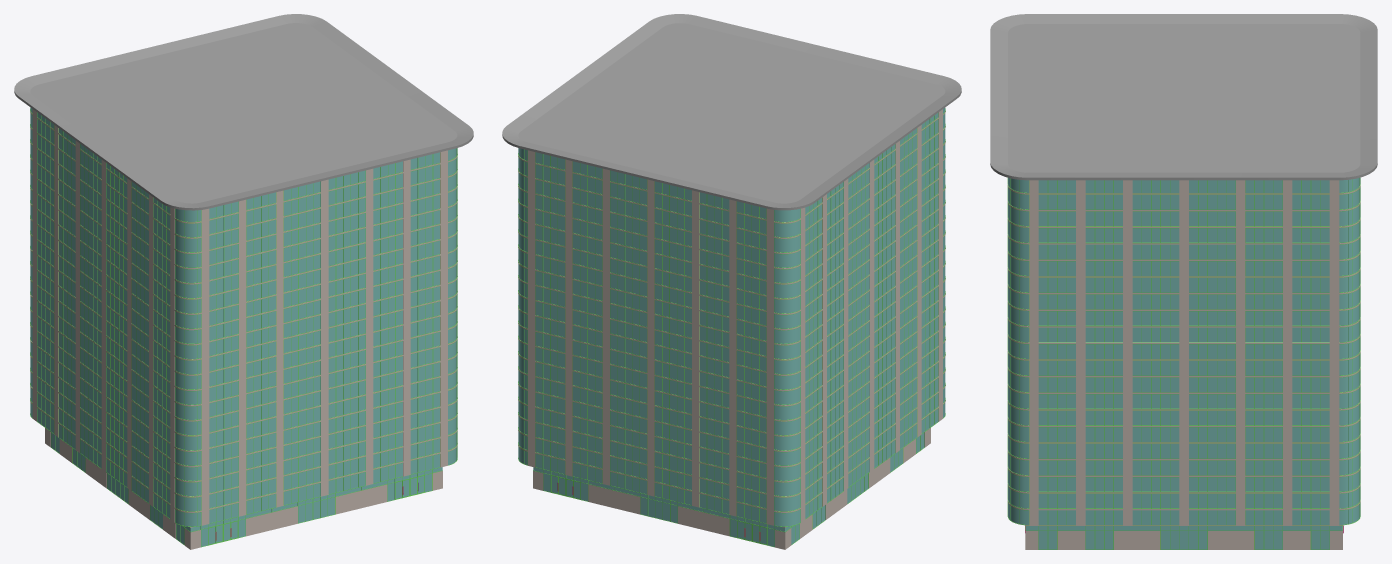
File: Building_7_3.FBX
3 renders of one model, left to right at view 1: azimuth 30°, elevation 25°; view 2: azimuth 150°, elevation 25°; view 3: azimuth 270°, elevation 25°, orthographic. The views are drawn at different scales.
Parts seen in each view (by area): view 1: B-7-F3C_LOD0; view 2: B-7-F3C_LOD0; view 3: B-7-F3C_LOD0.
Part boxes in pixels (<box>): B-7-F3C_LOD0: <box>14,14,473,549</box>; B-7-F3C_LOD0: <box>502,14,961,549</box>; B-7-F3C_LOD0: <box>990,14,1377,549</box>.
Size of what is drawn, in the model's own units: 5500 by 6059 by 5500.
